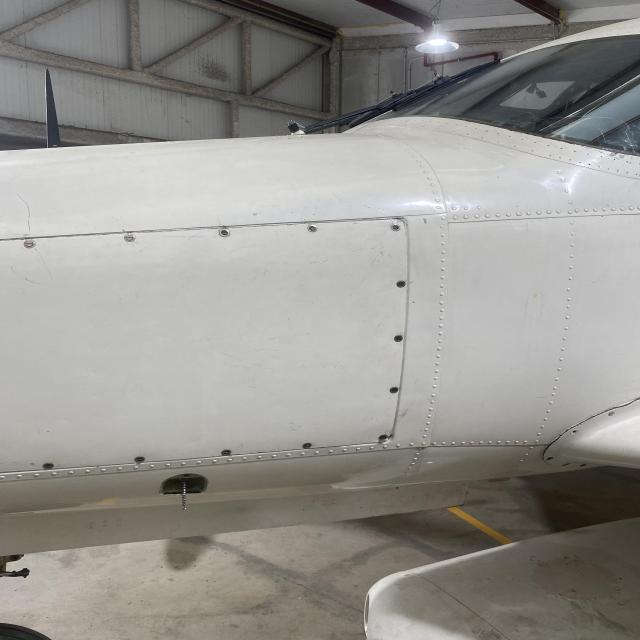Crack: (538, 424, 571, 460), (581, 395, 640, 412), (565, 412, 607, 427)
Missing_Fastener: (571, 429, 580, 436), (545, 456, 554, 461)
